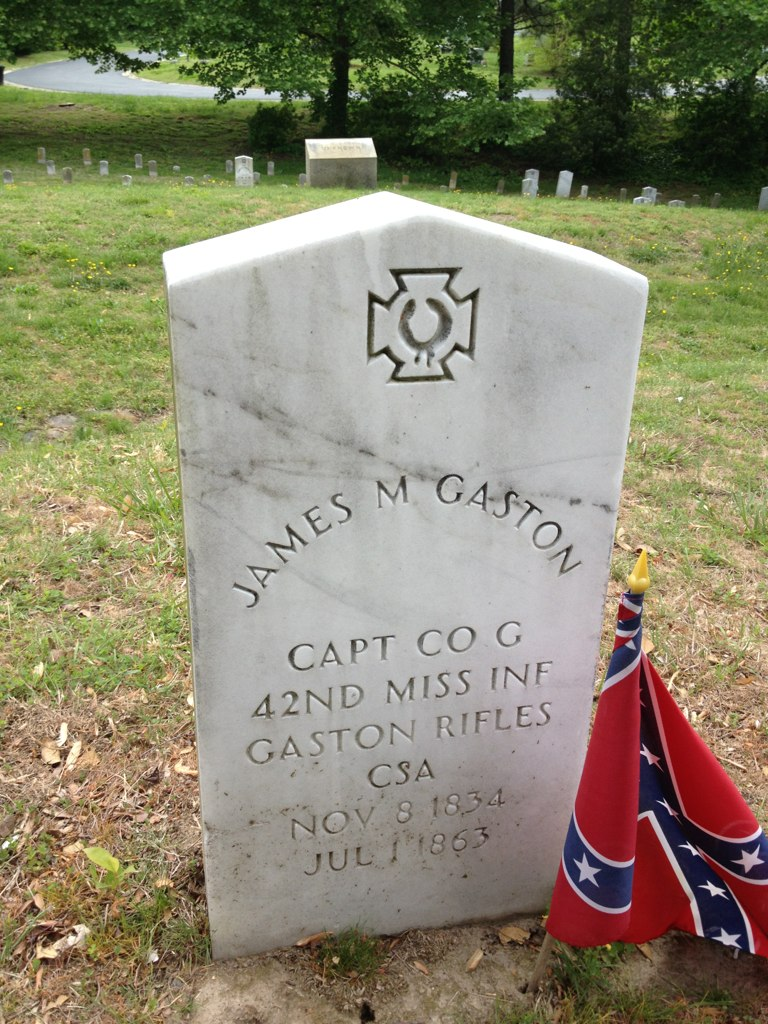military: (162, 185, 652, 959)
